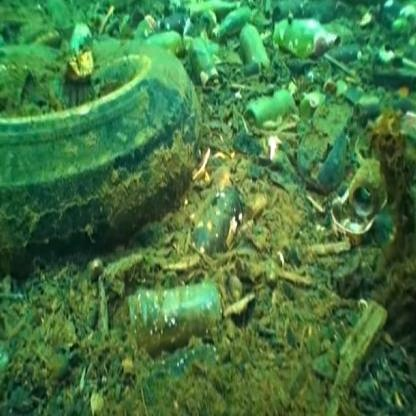gbottle: (126, 265, 221, 349), (228, 78, 309, 139), (185, 24, 235, 122), (188, 194, 252, 253), (237, 16, 270, 83)
tire: (12, 63, 209, 230)
